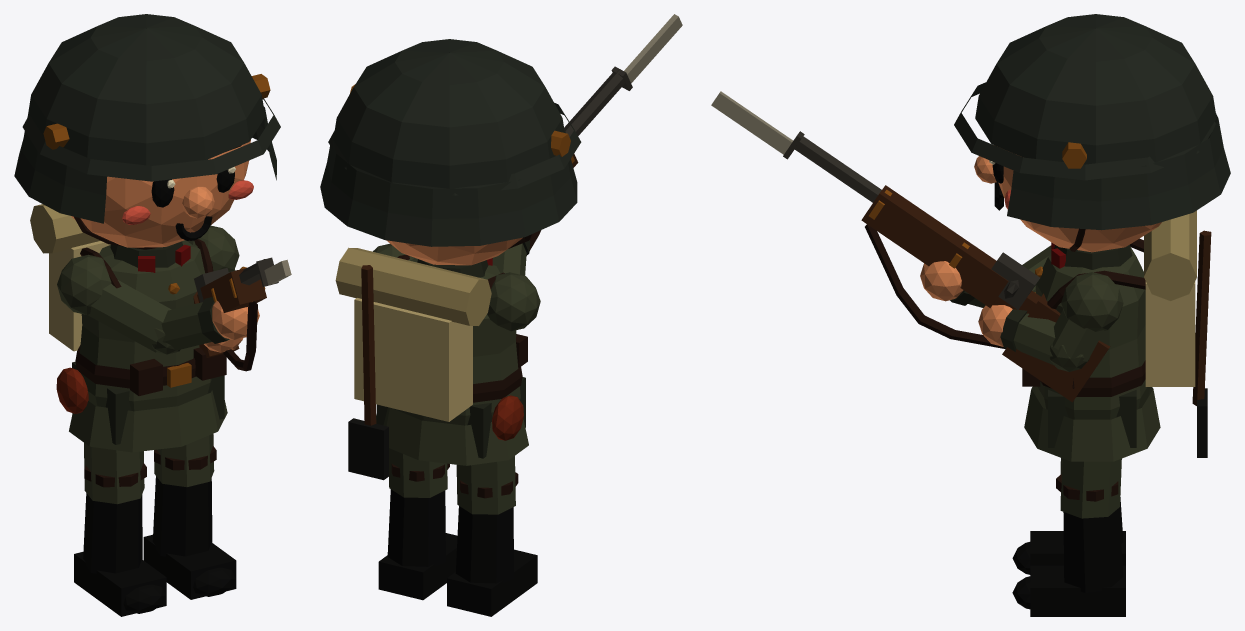
The model's file is Fusilero_CascoAcero.obj.
3 views of the same model, side by side, from view 1: azimuth 30°, elevation 25°; view 2: azimuth 150°, elevation 25°; view 3: azimuth 270°, elevation 25° (orthographic). The views are drawn at different scales.
Parts seen in each view (by area): view 1: Cuerpo, Pierna_I, Pierna_D; view 2: Cuerpo, Pierna_I, Pierna_D; view 3: Cuerpo, Pierna_D, Pierna_I.
Boxes of the visible parts, x1=… form: Cuerpo: x1=14, y1=14, x2=291, y2=452; Pierna_I: x1=74, y1=443, x2=166, y2=616; Pierna_D: x1=143, y1=434, x2=236, y2=599; Cuerpo: x1=320, y1=14, x2=682, y2=480; Pierna_I: x1=447, y1=456, x2=537, y2=616; Pierna_D: x1=378, y1=448, x2=457, y2=600; Cuerpo: x1=711, y1=14, x2=1230, y2=461; Pierna_D: x1=1012, y1=458, x2=1125, y2=616; Pierna_I: x1=1012, y1=458, x2=1125, y2=574.
Size of the model in its own units: 0.7592 by 1.75 by 1.46.
